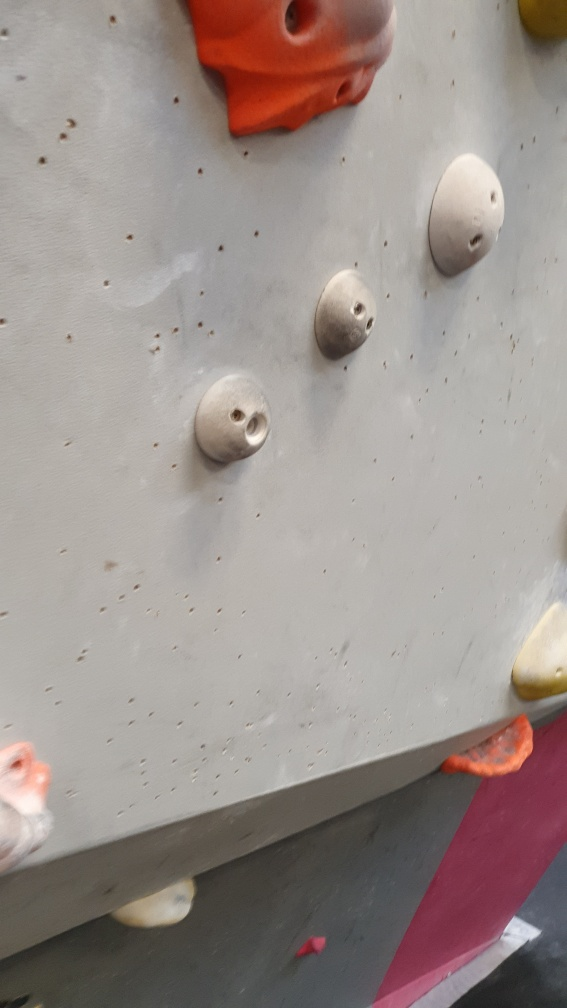Jug: (437, 714, 547, 779)
Sloper: (424, 151, 509, 279), (191, 370, 275, 467), (312, 266, 384, 366)
